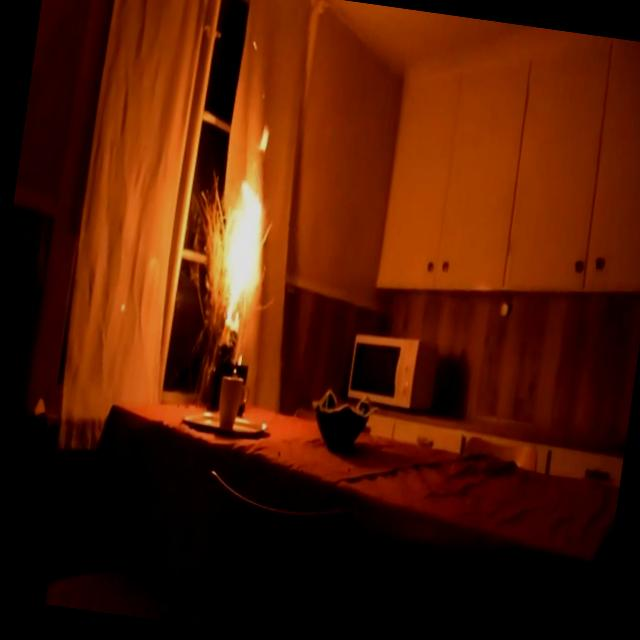fire: (193, 110, 292, 372)
